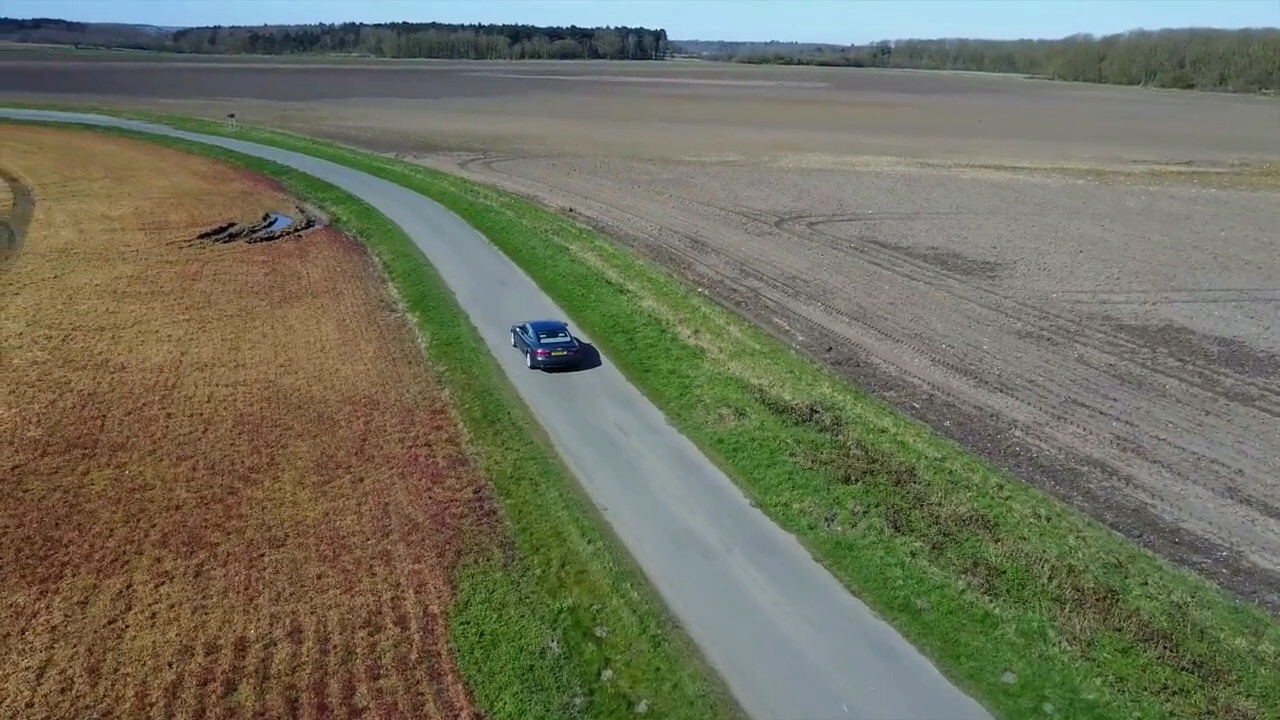araba: (511, 316, 582, 372)
